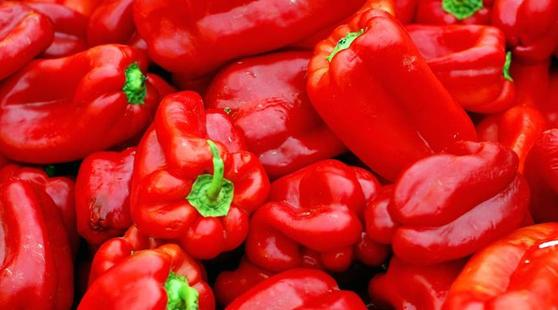pepper: (127, 92, 269, 252), (375, 138, 532, 267), (6, 46, 151, 167)
